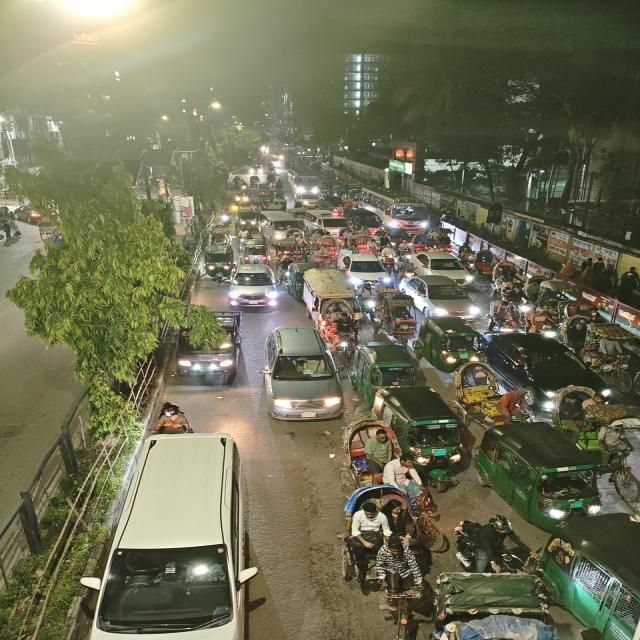bus: (538, 512, 640, 640), (364, 189, 430, 231), (286, 166, 322, 197)
car: (92, 428, 257, 640), (258, 324, 344, 424), (490, 333, 616, 401), (406, 274, 482, 319), (228, 264, 280, 308), (411, 250, 477, 284), (339, 251, 394, 285), (261, 212, 298, 245), (304, 208, 349, 234), (350, 207, 382, 231)
cng: (483, 422, 602, 522), (379, 384, 466, 471), (419, 316, 483, 370), (359, 342, 417, 390), (202, 245, 235, 278), (237, 239, 272, 266), (236, 210, 259, 234), (234, 187, 252, 207)
human_hauler: (301, 266, 364, 312)
motorcycle: (153, 400, 195, 433)
pickup_van: (166, 313, 252, 383)
rickshaw: (340, 490, 420, 632), (426, 570, 572, 640), (452, 364, 528, 424), (563, 314, 637, 373), (343, 417, 397, 485), (318, 302, 364, 348), (383, 296, 421, 344), (490, 260, 523, 288), (314, 235, 339, 267), (471, 247, 498, 276), (410, 233, 430, 255)
